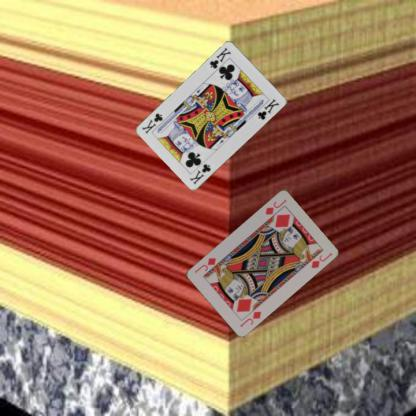Jd: (238, 308, 262, 328), (263, 197, 288, 216)
Kc: (207, 45, 232, 71), (187, 161, 212, 186)
